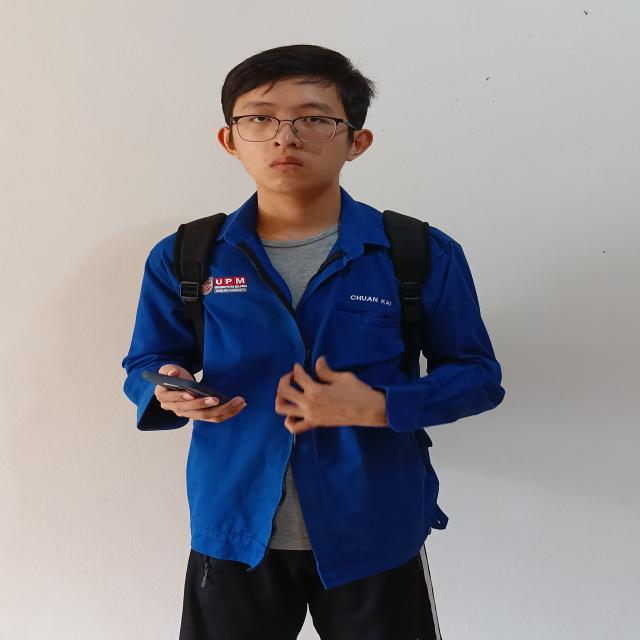person_with_labcoat: (123, 45, 504, 640)
